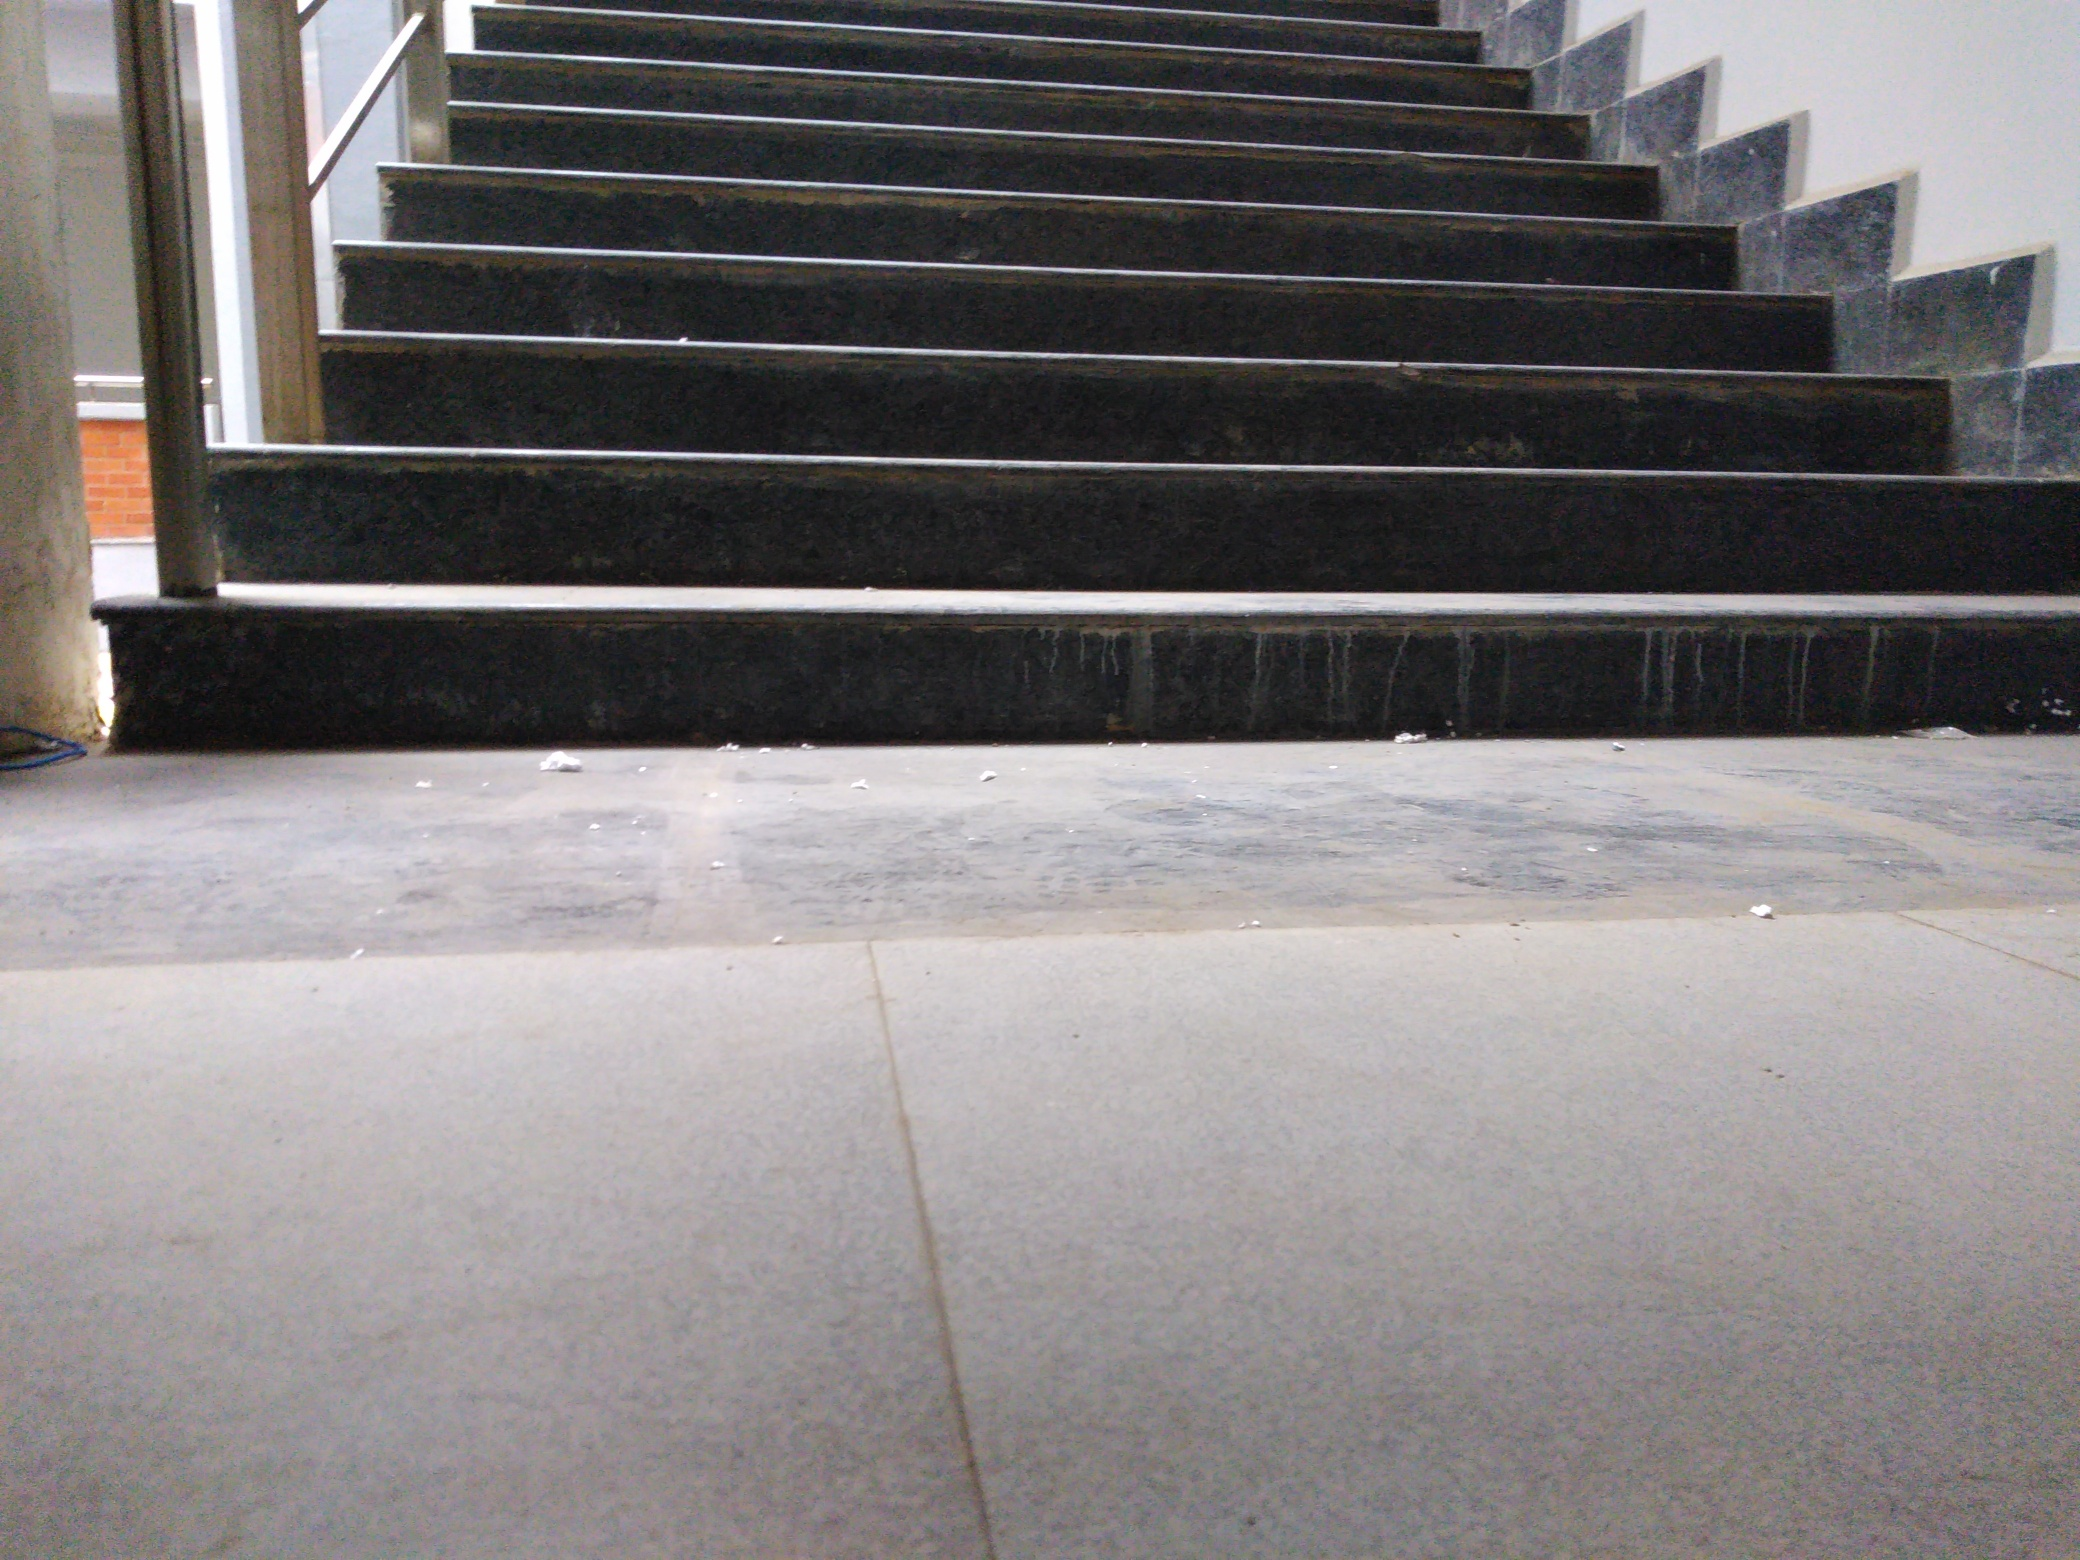stairs_up: (152, 26, 1956, 773)
